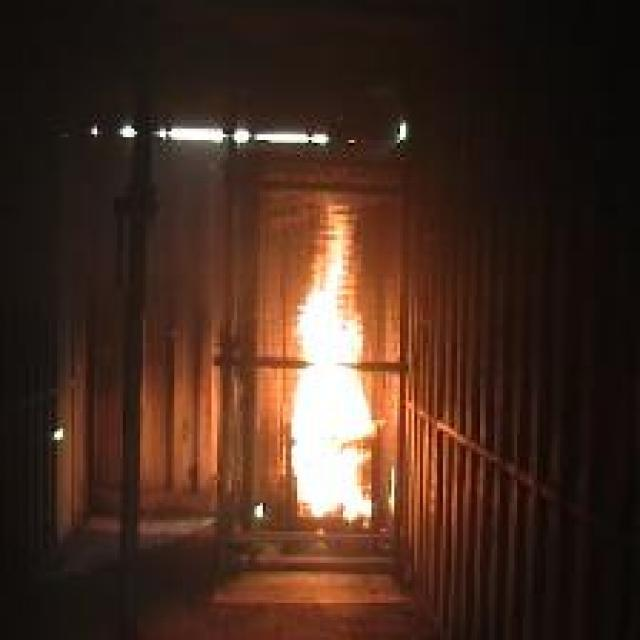Fire: (292, 196, 374, 522)
